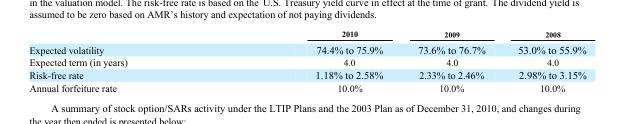table: (28, 29, 585, 93)
table column: (28, 29, 220, 93), (220, 29, 399, 93), (399, 29, 501, 93), (501, 29, 585, 93)
table column header: (28, 29, 585, 55)
table row: (28, 29, 585, 55), (28, 55, 585, 68), (28, 68, 585, 81), (28, 81, 585, 93)
